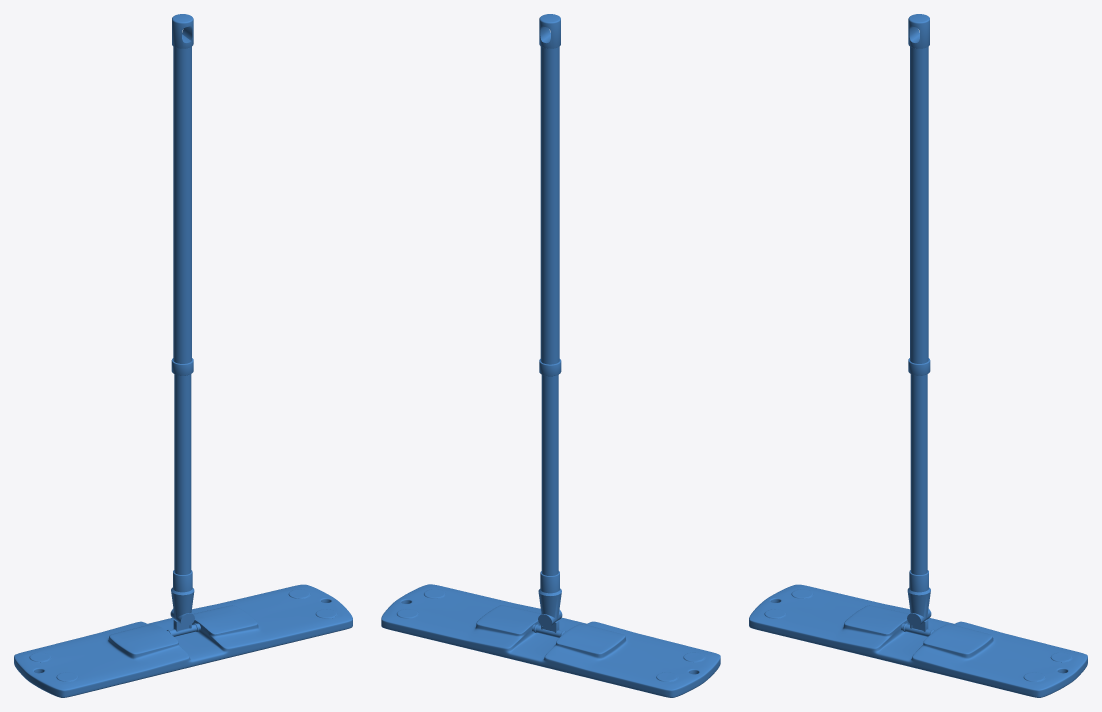
Rendered from mop.glb.
The picture shows the model from 3 angles, left to right: view 1: azimuth 30°, elevation 25°; view 2: azimuth 150°, elevation 25°; view 3: azimuth 330°, elevation 25°; orthographic projection.
Visible parts, largest first — view 1: mop_0; view 2: mop_0; view 3: mop_0.
Boxes of the visible parts, <box> form: mop_0: <box>14,14,352,697</box>; mop_0: <box>381,14,720,697</box>; mop_0: <box>749,14,1087,697</box>.
Bounding box in the file's own units: 0.6157 × 1.2 × 0.1746.
1 material, 1 textured.
